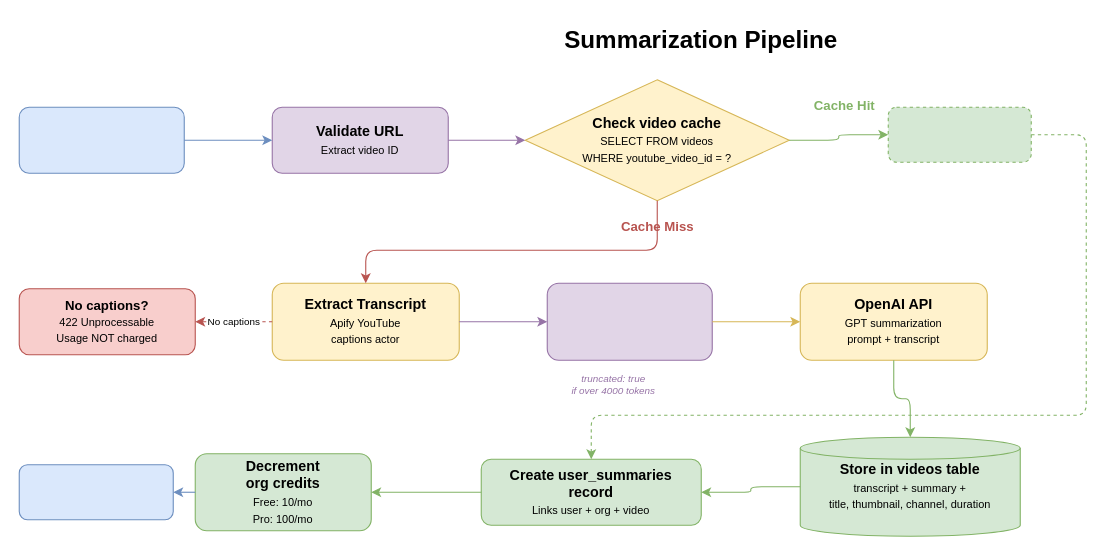
Some shapes in this 1114 by 556 pixel diagram are drawn without their labels. Here are the shapes that lost their labels. From the top down, the centre of each, then its label:
At point 101,139: "User pastes YouTube URL".
At point 959,134: "Reuse cached summary".
At point 629,321: "Truncate to 4000 tokens ~20 min of video".
At point 95,492: "Return summary to user".
